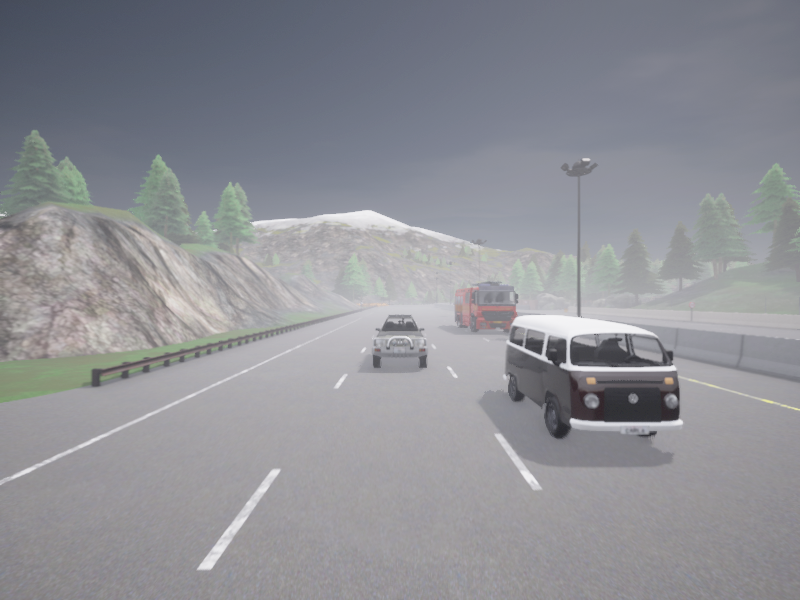vehicle: (503, 315, 682, 437), (455, 281, 518, 332), (372, 314, 427, 367)
